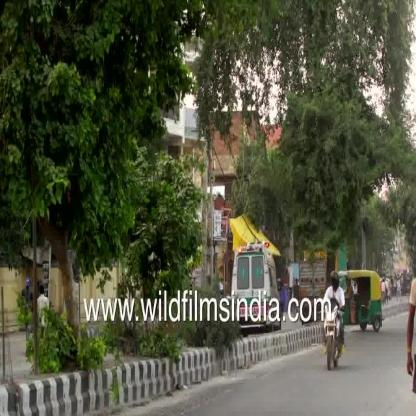priority: (226, 232, 288, 306)
